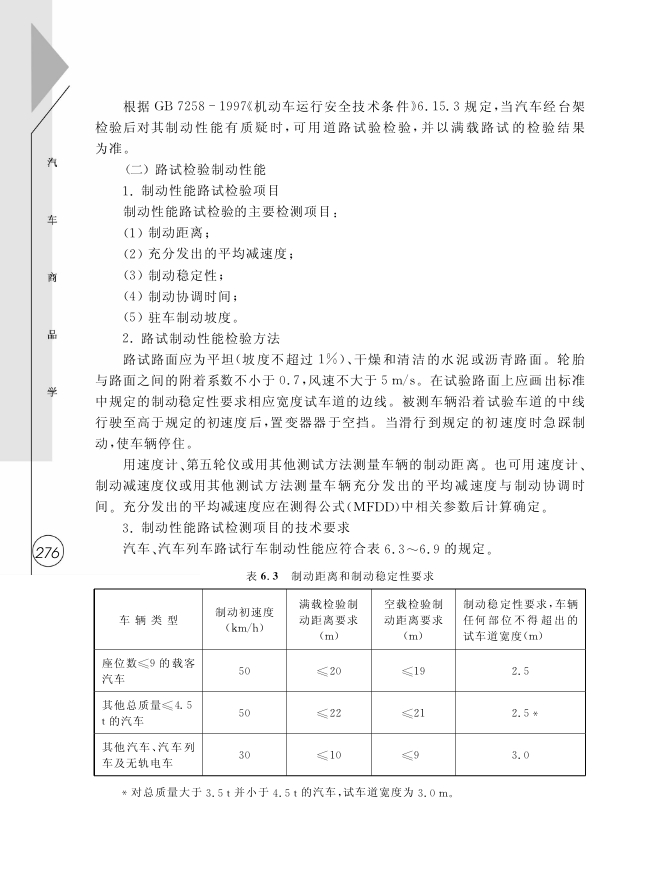table: (93, 588, 585, 776)
